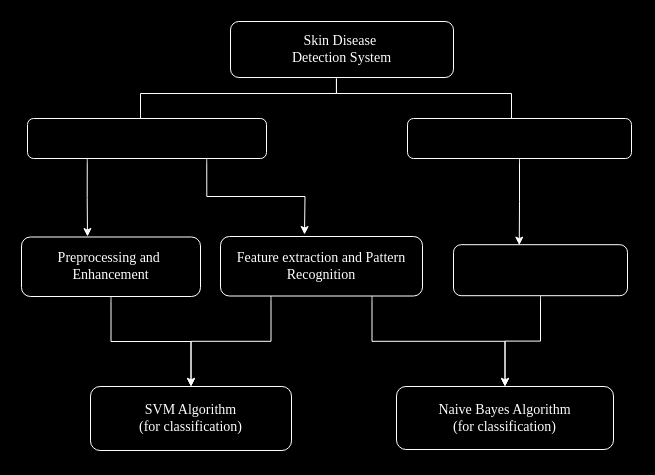
This 655x475 diagram has some shape labels left out. Each missing label, with the centre of its shape:
"Patient Uploaded image" goes at (147,140).
"Skin Image Analysis" goes at (541,271).
"Skin Images Database" goes at (520,140).
